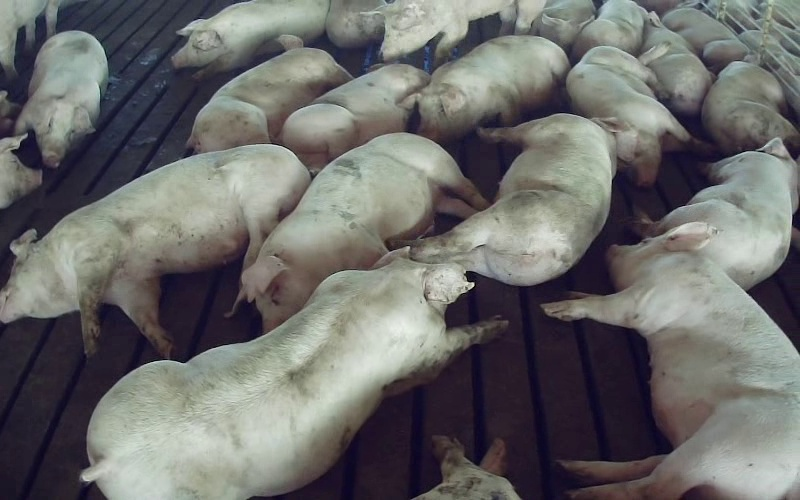pig: (544, 223, 799, 499), (0, 144, 309, 357), (239, 133, 486, 331), (410, 114, 624, 285), (654, 138, 797, 289), (187, 35, 351, 152), (566, 46, 690, 186), (281, 64, 429, 173), (417, 36, 569, 142), (15, 31, 107, 167), (374, 0, 545, 61), (702, 61, 799, 154), (639, 12, 711, 116)
